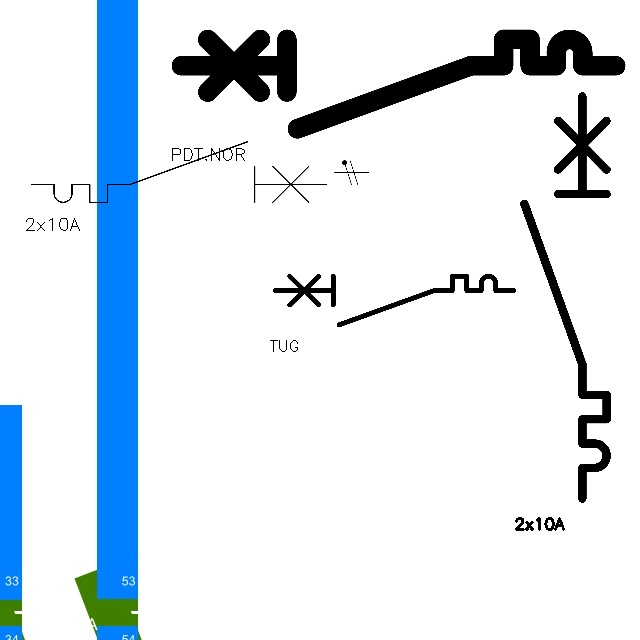interruptor_termomagnetico: (170, 28, 627, 140), (514, 86, 617, 509), (24, 134, 334, 210), (269, 270, 520, 331)
